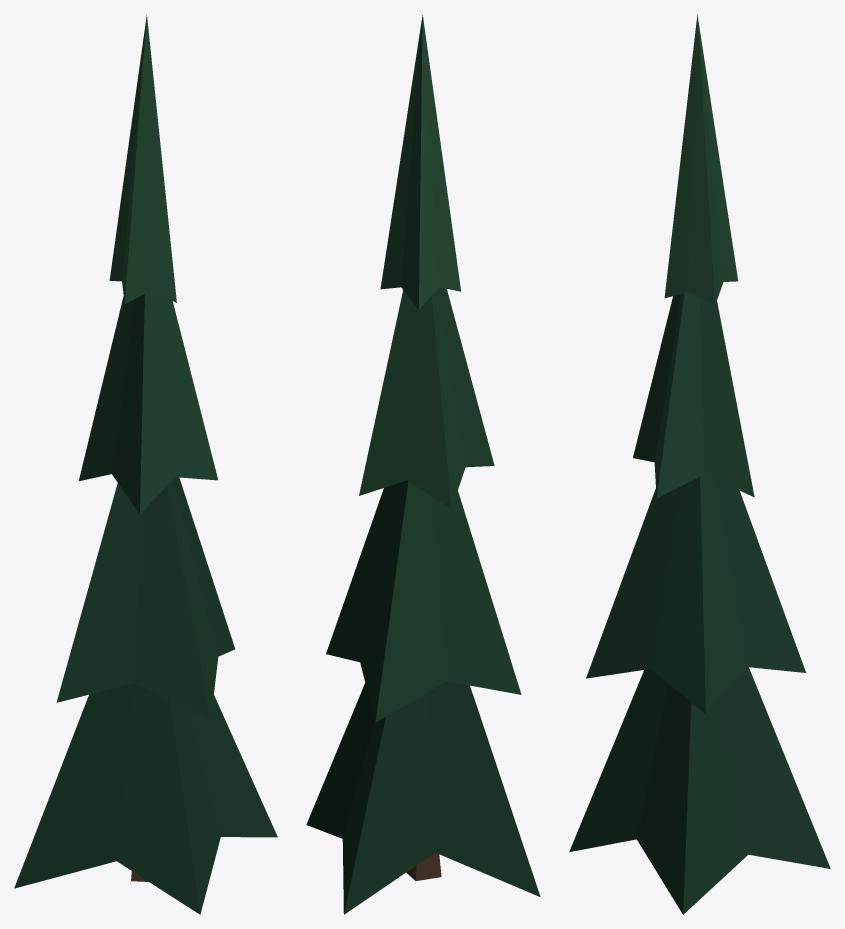
File: spruce_b_far.glb
The picture shows the model from 3 angles, left to right: view 1: azimuth 30°, elevation 25°; view 2: azimuth 150°, elevation 25°; view 3: azimuth 270°, elevation 25°; orthographic projection.
Parts seen in each view (by area): view 1: spruce_b_far; view 2: spruce_b_far; view 3: spruce_b_far.
Boxes of the visible parts, x1,y1,x2,y2 form: spruce_b_far: (14,15,277,914); spruce_b_far: (306,15,540,914); spruce_b_far: (569,14,830,914).
Bounding box in the file's own units: 3.51 × 11.6 × 3.22.
